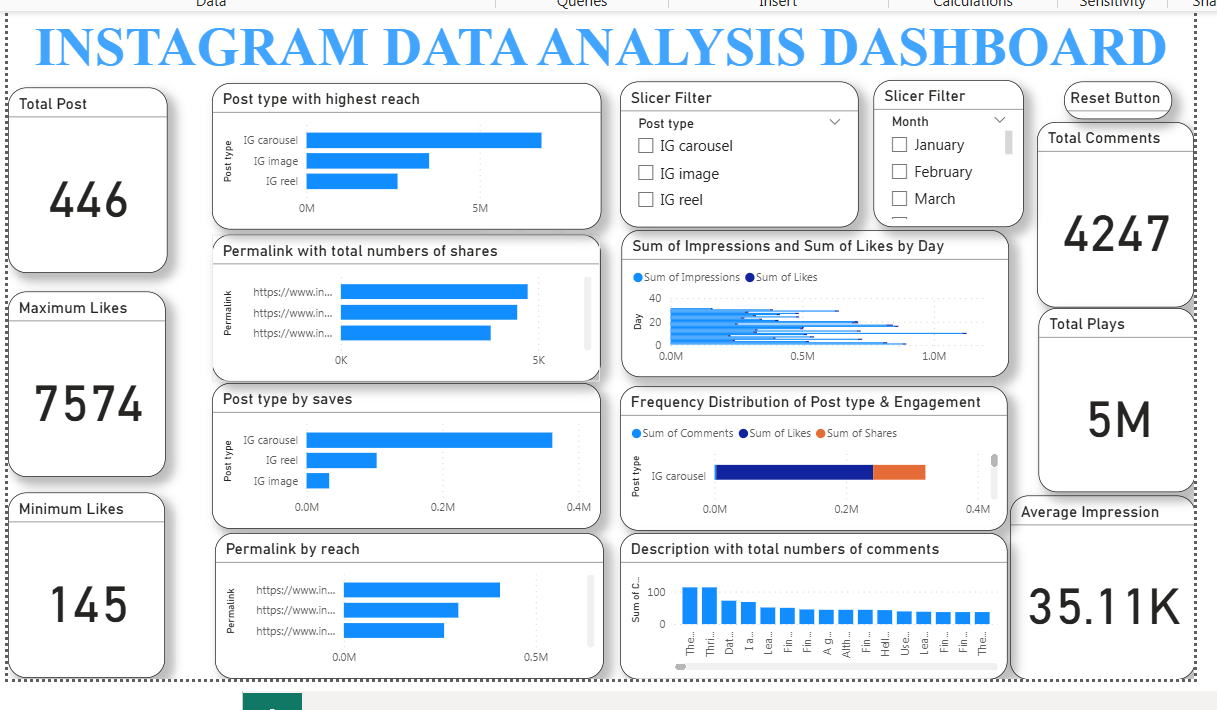

The dashboard page shown, as its layout file describes it:
{"tool":"powerbi","page":{"name":"Instagram analysis dashboard","canvas":[1280,720],"ordinal":0},"visuals":[{"type":"card","title":"Total Post","fields":{"Values":["CountNonNull(Instagram-Data-1.Post ID)"]},"box":[0,83.2,171.9,199.7],"z":0},{"type":"card","title":"Average Impression","fields":{"Values":["Avg(Instagram-Data-1.Impressions)"]},"box":[1080.4,521.9,200.3,198.4],"z":1000},{"type":"card","title":"Maximum Likes","fields":{"Values":["Max(Instagram-Data-1.Likes)"]},"box":[0,303.2,170.1,199.7],"z":2000},{"type":"card","title":"Minimum Likes","fields":{"Values":["Min(Instagram-Data-1.Likes)"]},"box":[0,520,169.5,200.3],"z":3000},{"type":"barChart","title":"Frequency Distribution of Post type & Engagement","fields":{"Category":["Instagram-Data-1.Post type"],"Y":["Sum(Instagram-Data-1.Comments)","Sum(Instagram-Data-1.Likes)","Sum(Instagram-Data-1.Shares)"]},"box":[660.6,404.4,417.9,156],"z":4000},{"type":"card","title":"Total Comments","fields":{"Values":["Sum(Instagram-Data-1.Comments)"]},"box":[1109.3,119.4,169.5,200.3],"z":5000},{"type":"barChart","fields":{"Y":["Sum(Instagram-Data-1.Impressions)","Sum(Instagram-Data-1.Likes)"],"Category":["Instagram-Data-1.Publish time.Variation.Date Hierarchy.Day"]},"box":[662.3,236.4,417.8,158.7],"z":6000},{"type":"textbox","box":[0,0,1279.4,77.7],"z":7000},{"type":"barChart","title":"Post type by saves","fields":{"Category":["Instagram-Data-1.Post type"],"Y":["Sum(Instagram-Data-1.Saves)"]},"box":[220.2,401.6,419.4,157.1],"z":8000},{"type":"columnChart","title":"Description with total numbers of comments","fields":{"Category":["Instagram-Data-1.Description"],"Y":["Sum(Instagram-Data-1.Comments)"]},"box":[660.6,562.3,417.9,157.9],"z":9000},{"type":"barChart","title":"Permalink with total numbers of shares","fields":{"Category":["Instagram-Data-1.Permalink"],"Y":["Sum(Instagram-Data-1.Shares)"]},"box":[220.2,241.3,419.4,158.7],"z":10000},{"type":"barChart","title":"Permalink by reach","fields":{"Category":["Instagram-Data-1.Permalink"],"Y":["Sum(Instagram-Data-1.Reach)"]},"box":[223.5,563.5,419.4,157.1],"z":11000},{"type":"card","title":"Total Plays","fields":{"Values":["Sum(Instagram-Data-1.Plays)"]},"box":[1111.2,319.7,169.5,198.4],"z":12000},{"type":"barChart","title":"Post type with highest reach","fields":{"Category":["Instagram-Data-1.Post type"],"Y":["Sum(Instagram-Data-1.Reach)"]},"box":[219.5,77,419.8,157.9],"z":13000},{"type":"slicer","title":"Slicer Filter","fields":{"Values":["Instagram-Data-1.Post type"]},"box":[660.6,76.1,257.5,157.1],"z":14000},{"type":"slicer","title":"Slicer Filter","fields":{"Values":["Instagram-Data-1.Publish time.Variation.Date Hierarchy.Month"]},"box":[934.3,74.5,161.9,158.7],"z":15000},{"type":"actionButton","title":"Reset Button","box":[1138.3,76.1,116.6,40.5],"z":16000}]}

Visuals, with their boxes in screenshot pixels (x1, y1, x2, y2):
"Total Post" card: left=0, top=81, right=161, bottom=268
"Average Impression" card: left=1013, top=493, right=1201, bottom=679
"Maximum Likes" card: left=0, top=287, right=159, bottom=475
"Minimum Likes" card: left=0, top=491, right=159, bottom=679
"Frequency Distribution of Post type & Engagement" barChart: left=619, top=382, right=1011, bottom=529
"Total Comments" card: left=1040, top=115, right=1199, bottom=303
barChart - Sum(Instagram-Data-1.Impressions) x Sum(Instagram-Data-1.Likes): left=621, top=225, right=1013, bottom=374
textbox: left=0, top=3, right=1200, bottom=76
"Post type by saves" barChart: left=206, top=380, right=600, bottom=527
"Description with total numbers of comments" columnChart: left=619, top=530, right=1011, bottom=678
"Permalink with total numbers of shares" barChart: left=206, top=229, right=600, bottom=378
"Permalink by reach" barChart: left=210, top=532, right=603, bottom=679
"Total Plays" card: left=1042, top=303, right=1201, bottom=489
"Post type with highest reach" barChart: left=206, top=75, right=599, bottom=223
"Slicer Filter" slicer: left=619, top=75, right=861, bottom=222
"Slicer Filter" slicer: left=876, top=73, right=1028, bottom=222
"Reset Button" actionButton: left=1067, top=75, right=1177, bottom=112
